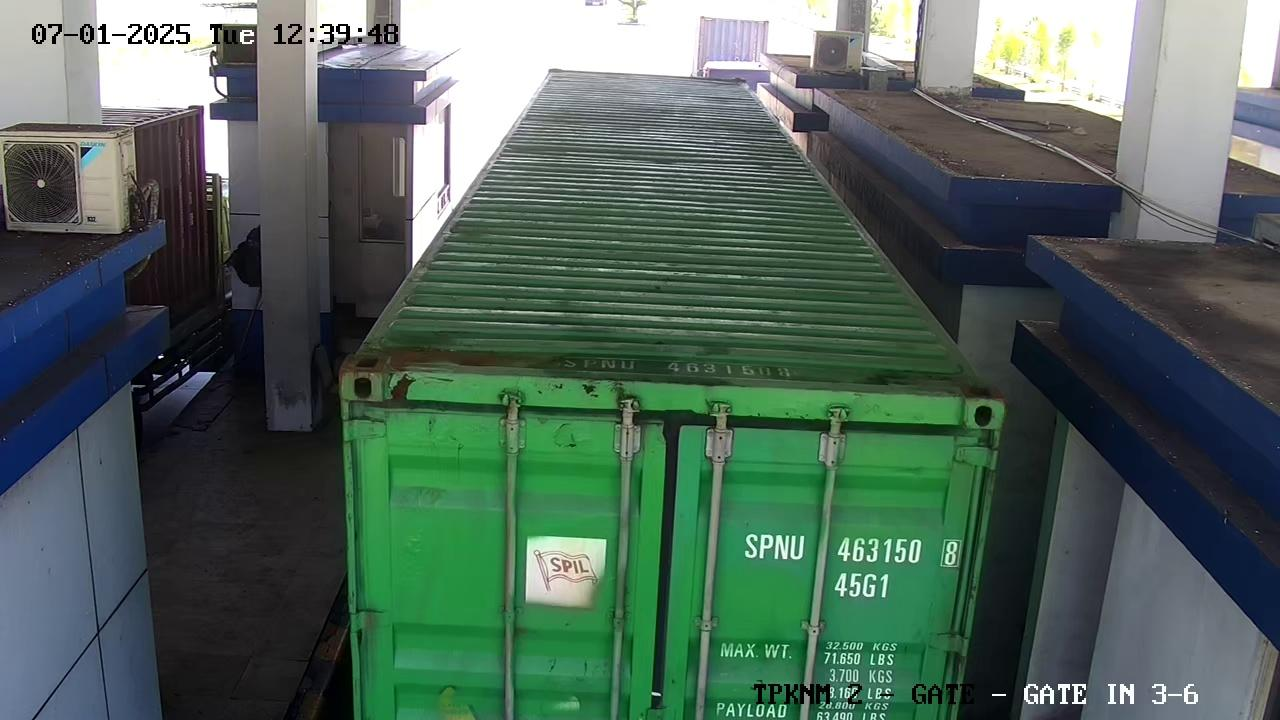Container_ID: (727, 518, 967, 606), (547, 339, 802, 404)
